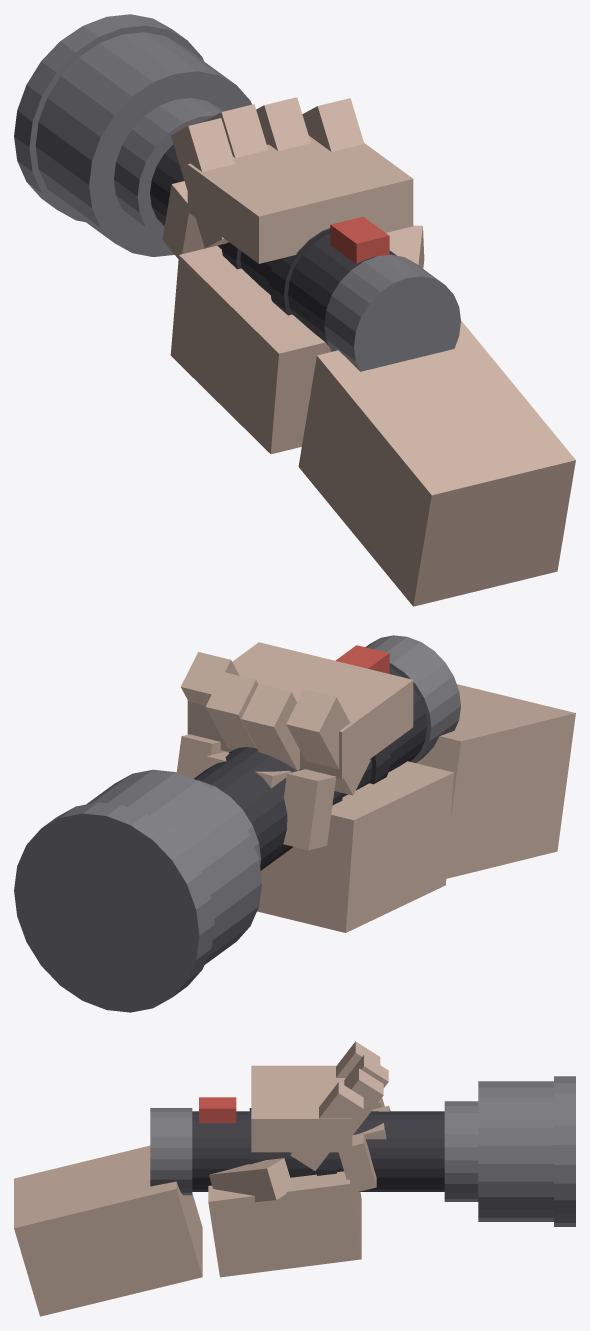
Rendered from viewmodel_player.glb.
3 renders of one model, top to bottom at view 1: azimuth 30°, elevation 25°; view 2: azimuth 150°, elevation 25°; view 3: azimuth 270°, elevation 25°, orthographic. The views are drawn at different scales.
Parts seen in each view (by area): view 1: Mano_Izq, Linterna; view 2: Mano_Izq, Linterna; view 3: Mano_Izq, Linterna.
Boxes of the visible parts, box(x1,y1,x2,y2) form: Mano_Izq: box(162, 97, 575, 606); Linterna: box(14, 14, 460, 371); Mano_Izq: box(176, 642, 575, 932); Linterna: box(14, 635, 460, 1012); Mano_Izq: box(14, 1041, 390, 1316); Linterna: box(150, 1076, 575, 1226).
Size of the model in its own units: 0.0965 by 0.1476 by 0.3341.
